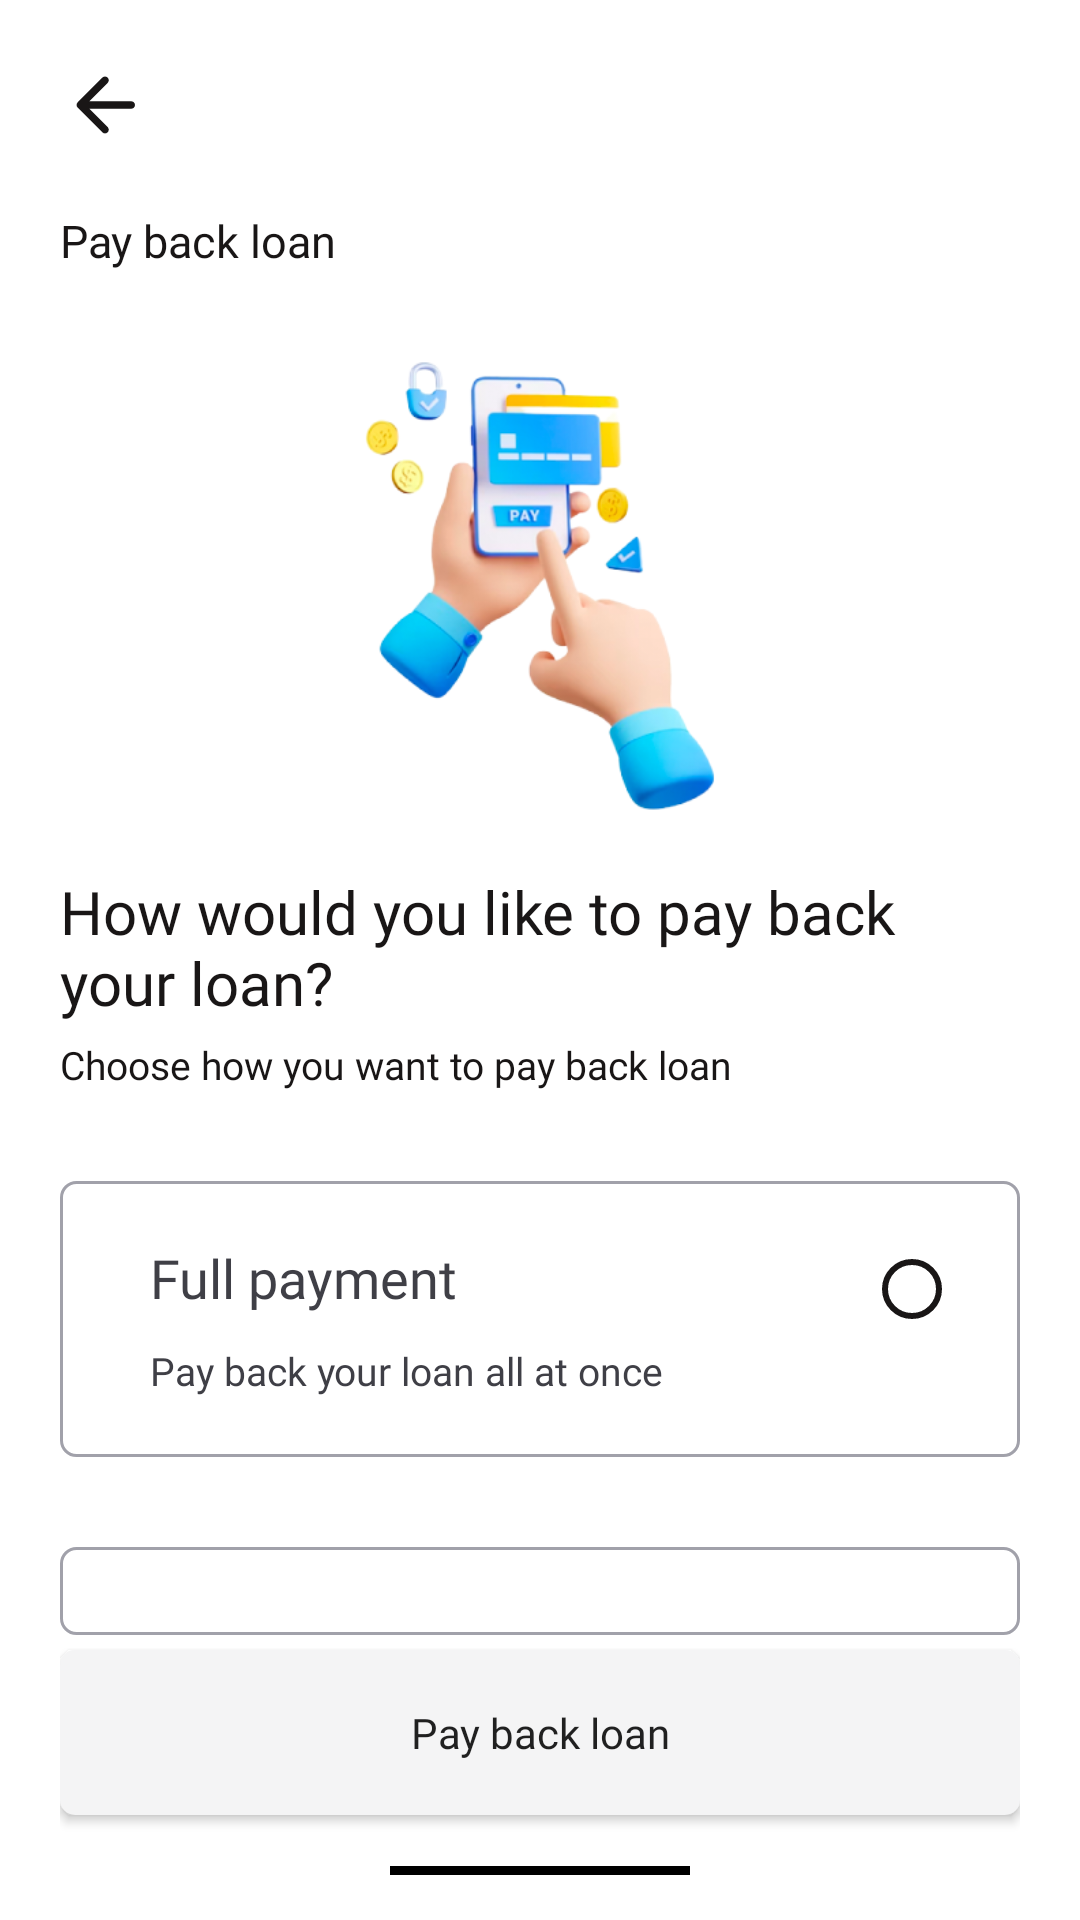

Screen size 1080*1920. Icon name, then its box in pixels as [x1, y1, x2, y2]:
arrow left: [76, 76, 135, 134]
